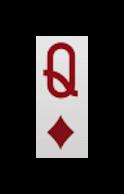QD: (39, 38, 84, 154)
